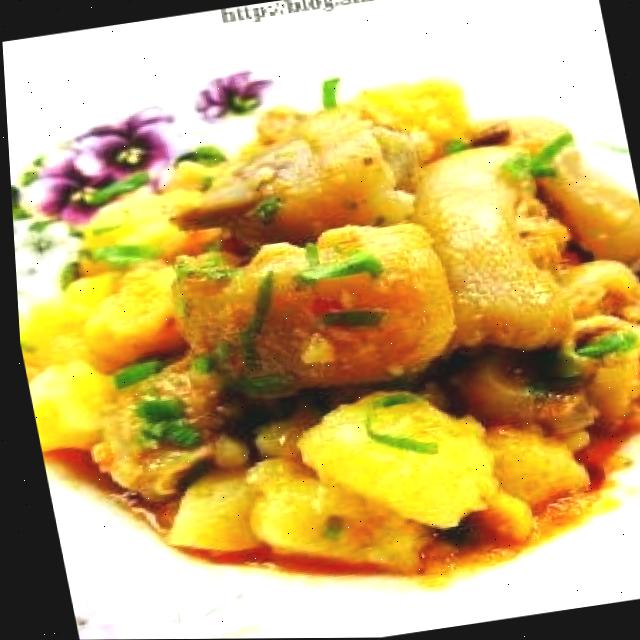豆腐料理: (1, 26, 640, 640)
